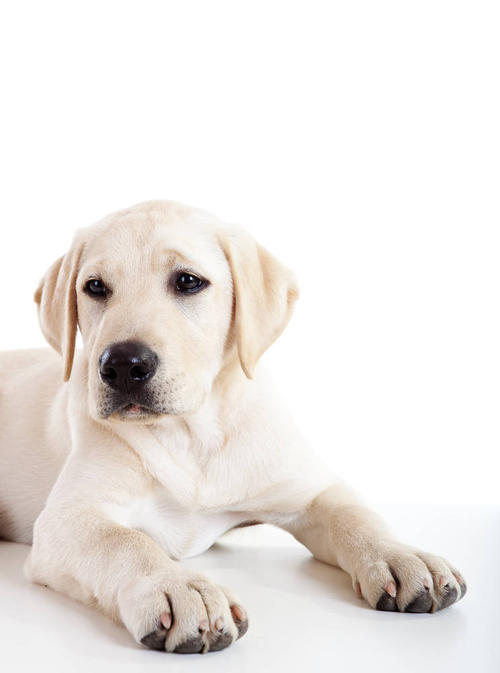dog: (10, 187, 308, 449)
